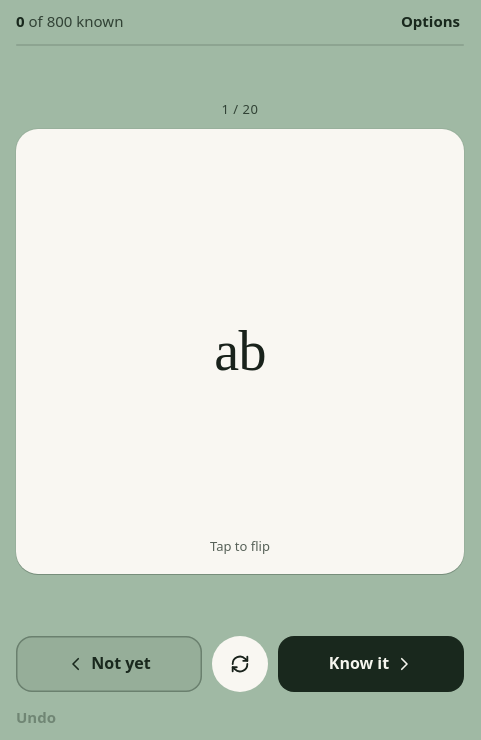
Test case: App › flips with the button and reveals the translation only on request
The width and height of the screenshot is (481, 740).
Click the button named "Flip card": [240, 664] box top-left (212, 636), bottom-right (268, 692)
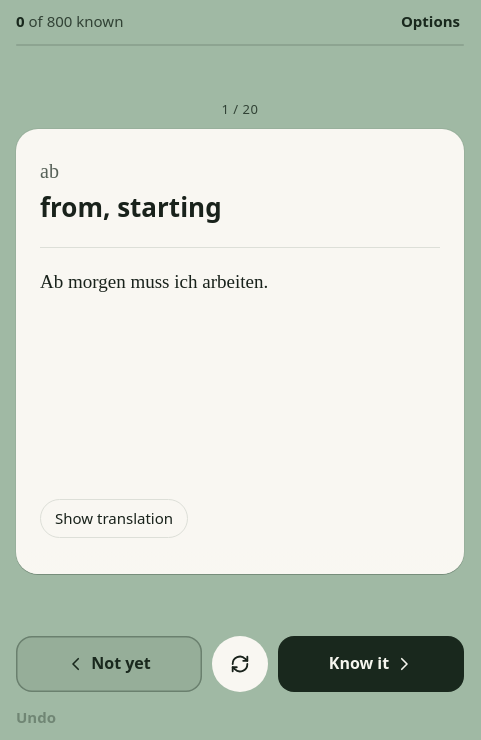
Expected: the text "I have to work starting tomorrow." is not shown
Now the element that starts with "Tap to flip" has class "is-flipped", box top-left (16, 129), bottom-right (464, 574)
Click the button "Show translation": [114, 518] box top-left (40, 498), bottom-right (188, 538)
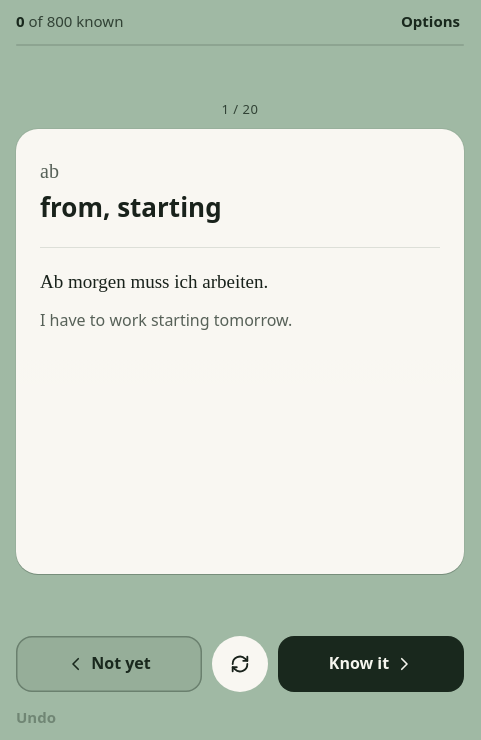
Now the text "I have to work starting tomorrow." is shown, box top-left (40, 308), bottom-right (292, 330)
